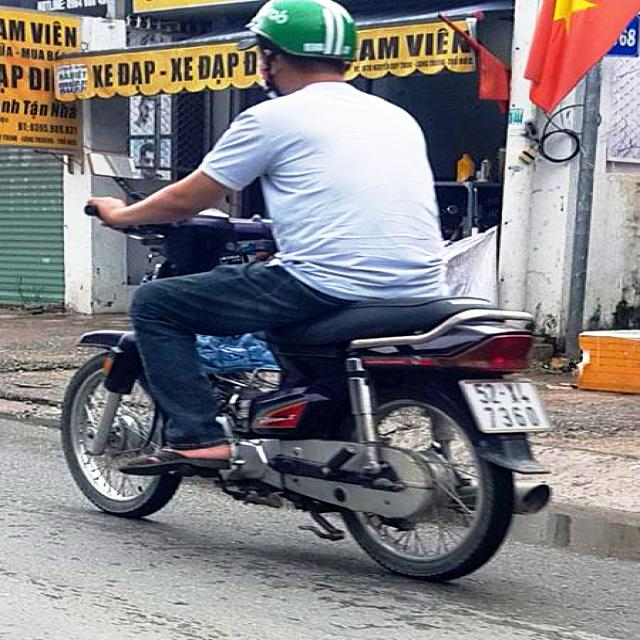license_plate: (465, 380, 555, 436)
